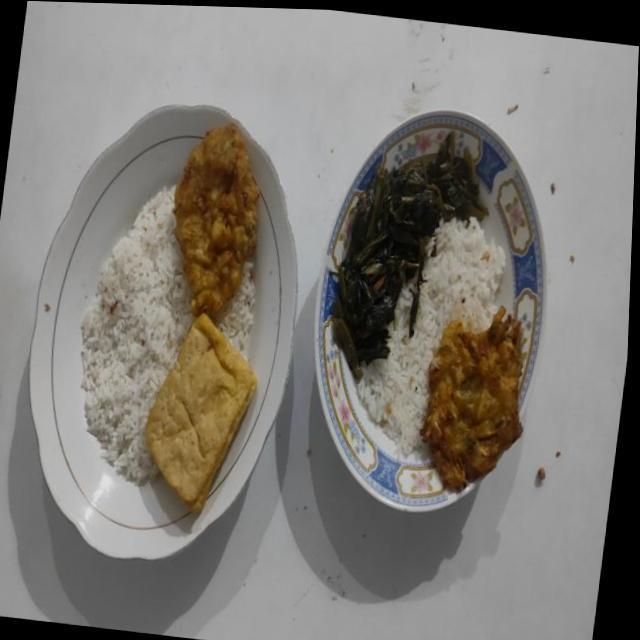nasi_putih: (360, 218, 505, 452), (80, 186, 190, 483), (222, 262, 255, 352)
tahu_goreng: (145, 314, 256, 510)
tumis_kangkung: (330, 131, 488, 379)
